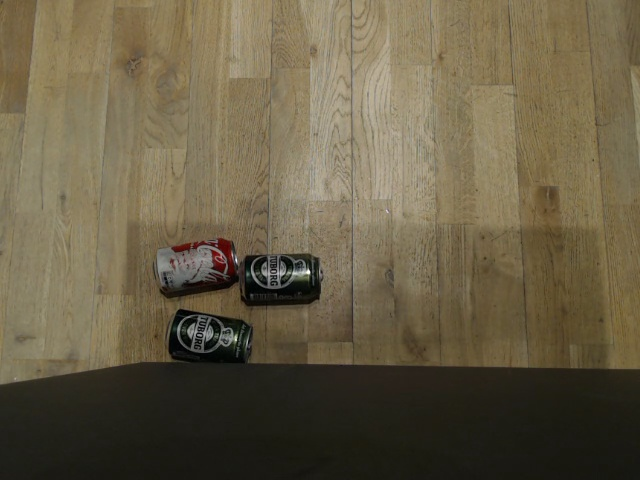beer: (239, 248, 327, 310), (160, 310, 255, 364)
cola: (146, 235, 239, 297)
